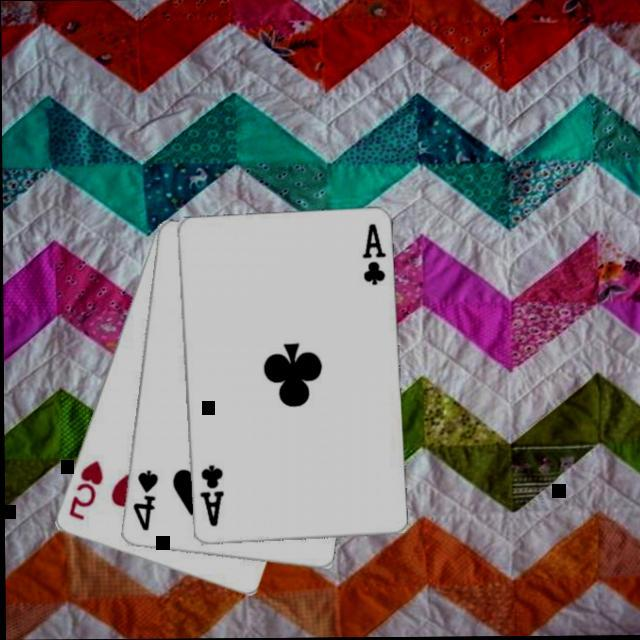4S: (130, 466, 160, 532)
5H: (65, 456, 106, 522)
AC: (359, 220, 389, 288), (196, 462, 226, 528)
